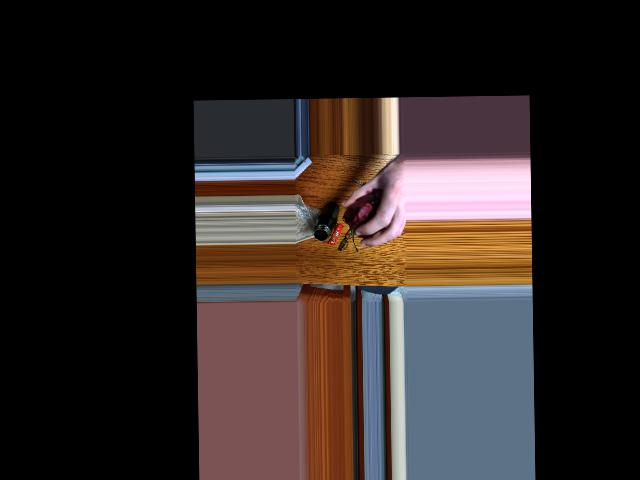onion: (346, 189, 384, 237)
